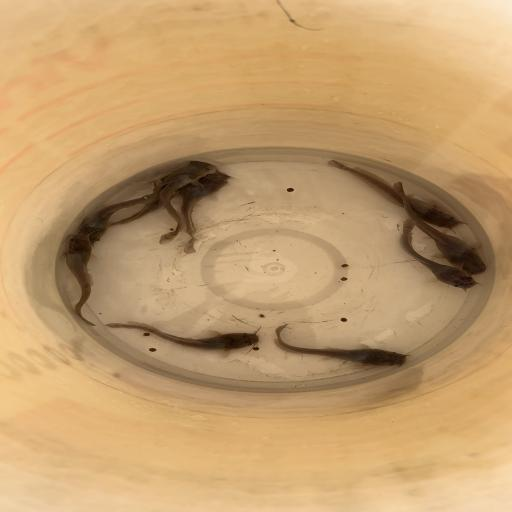lele: (327, 158, 461, 229), (390, 181, 486, 275), (393, 219, 479, 293), (274, 323, 411, 368), (103, 320, 263, 358), (155, 160, 217, 246), (178, 171, 234, 253), (70, 192, 155, 241), (62, 232, 98, 327), (106, 200, 164, 230)
